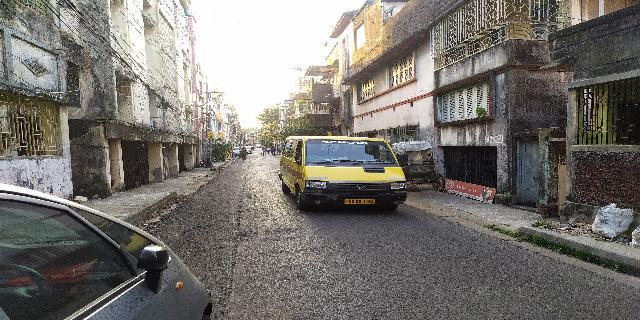Car: (1, 188, 215, 320)
Van: (277, 131, 409, 215)
